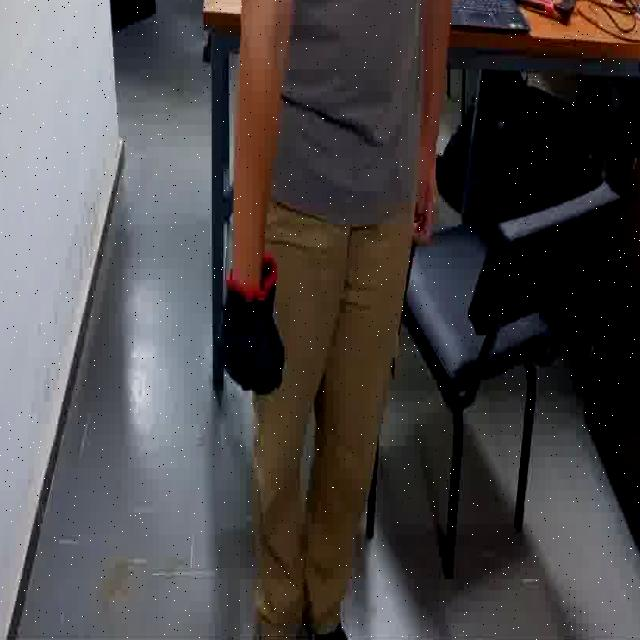Gloves: (218, 253, 285, 393)
